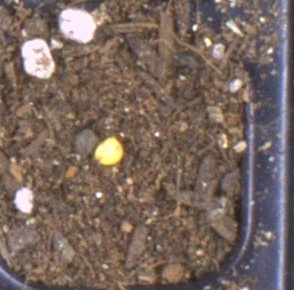chilli seed: (93, 136, 123, 167)
